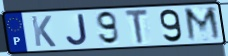9: (95, 10, 122, 47), (158, 8, 184, 43)
J: (64, 12, 90, 47)
K: (29, 15, 58, 48)
M: (182, 5, 224, 43)
T: (124, 8, 150, 46)
